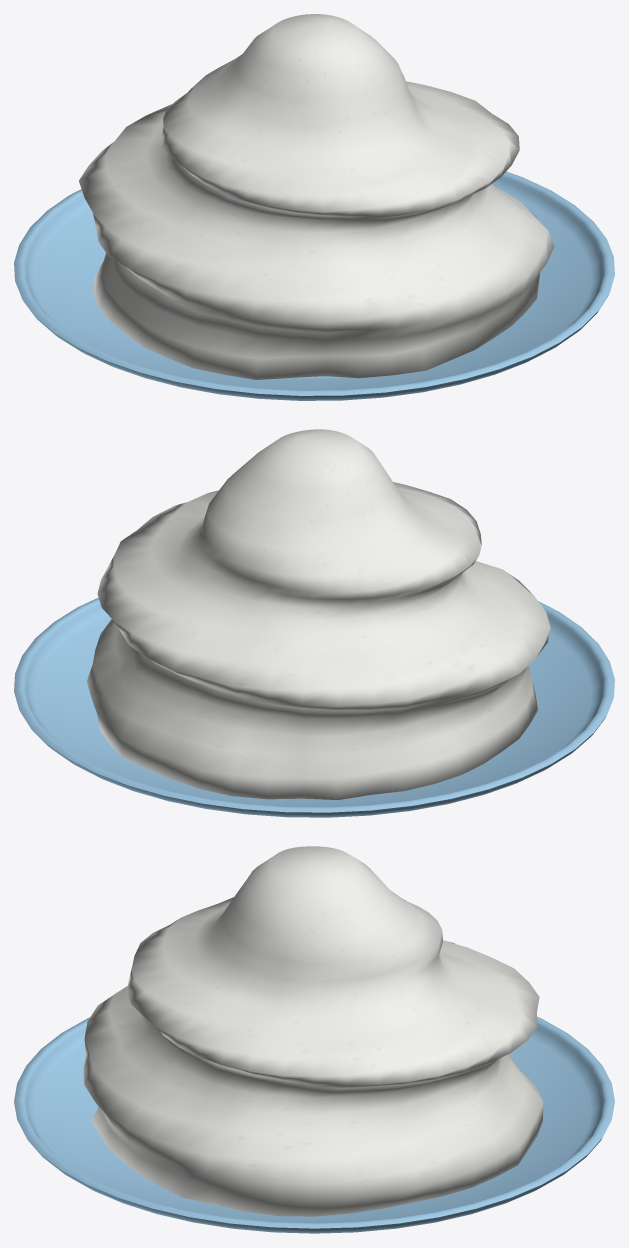
The model's file is foam.glb.
3 views of the same model, one above another, from view 1: azimuth 30°, elevation 25°; view 2: azimuth 150°, elevation 25°; view 3: azimuth 270°, elevation 25° (orthographic).
Visible parts, largest first — view 1: blob, dish; view 2: blob, dish; view 3: blob, dish.
Part boxes in pixels (x1,y1,x2,y2): blob: (79, 14, 554, 379); dish: (14, 171, 614, 400); blob: (86, 429, 550, 799); dish: (14, 597, 614, 817); blob: (83, 846, 543, 1216); dish: (14, 1016, 614, 1233).
Bounding box in the file's own units: 0.1091 × 0.0588 × 0.1091.
Materials: 2 (1 with a texture image).
